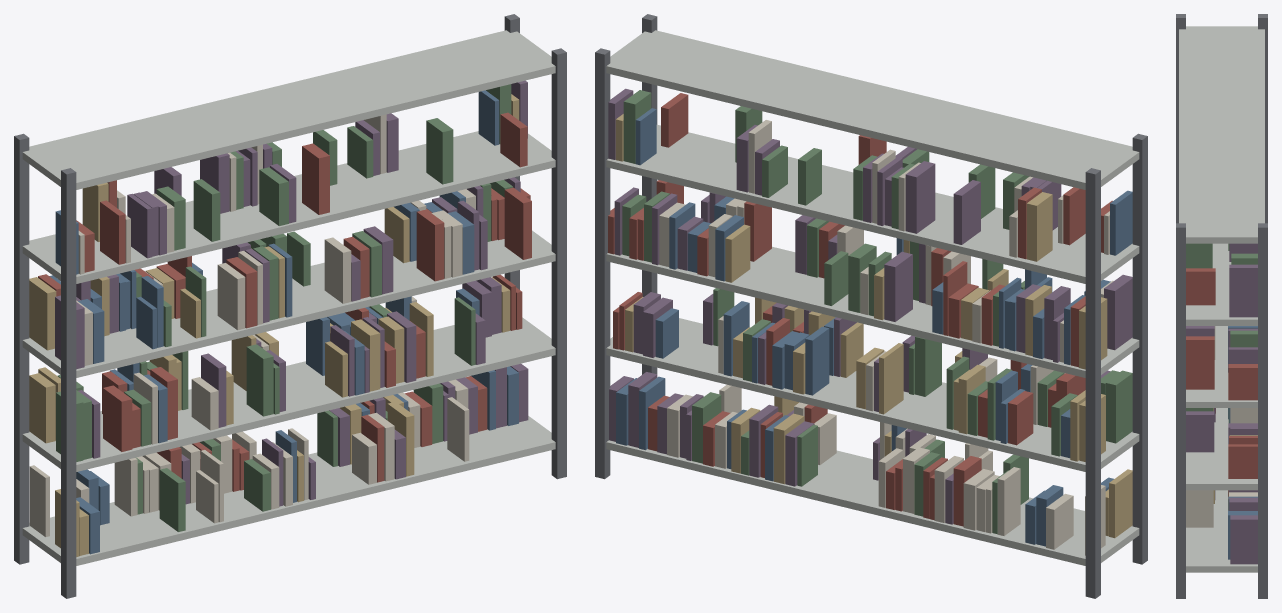
Rendered from mov_d7da074ba9.gltf.
3 views of the same model, side by side, from view 1: azimuth 30°, elevation 25°; view 2: azimuth 150°, elevation 25°; view 3: azimuth 270°, elevation 25° (orthographic). The views are drawn at different scales.
Visible parts, largest first — view 1: mov_d7da074ba9; view 2: mov_d7da074ba9; view 3: mov_d7da074ba9.
Part boxes in pixels (x1,y1,x2,y2): mov_d7da074ba9: (14, 14, 566, 598); mov_d7da074ba9: (595, 14, 1147, 598); mov_d7da074ba9: (1176, 14, 1267, 598).
Bounding box in the file's own units: 2.59 × 2.1 × 0.47.
